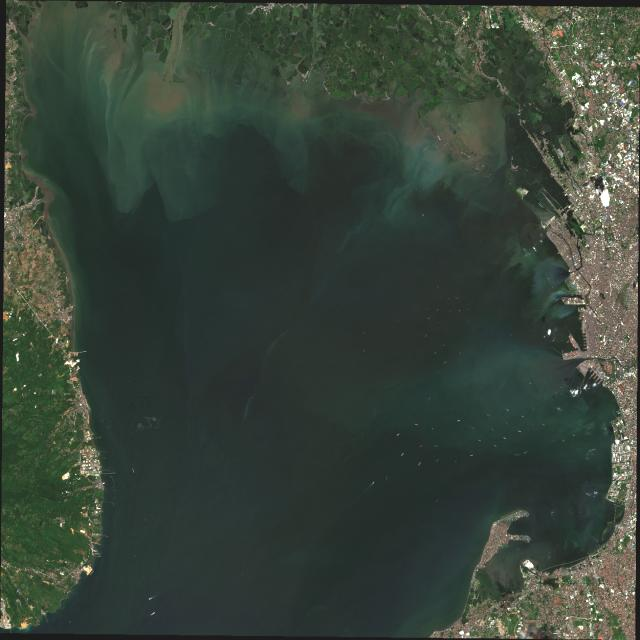algal: (26, 3, 367, 220), (410, 162, 578, 466), (97, 54, 305, 202), (386, 123, 509, 186)
